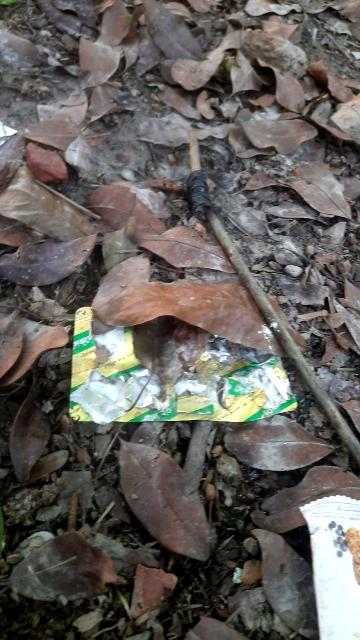medicine: (64, 301, 305, 428)
